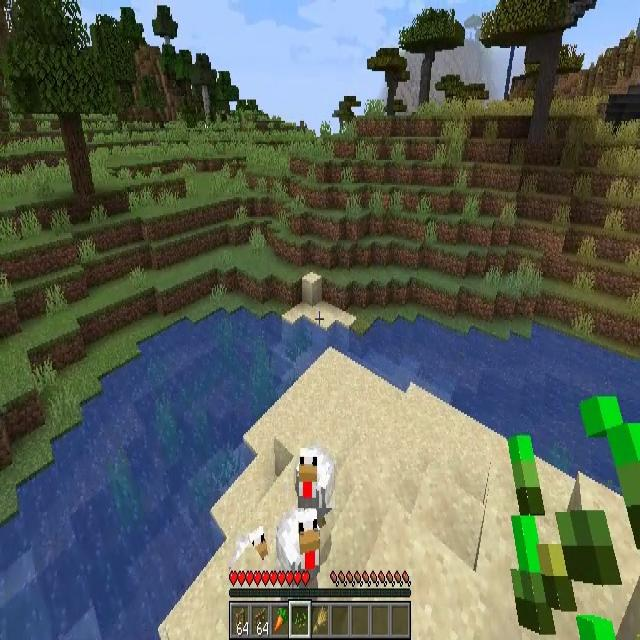duck: (278, 508, 321, 568), (295, 448, 335, 508), (228, 525, 268, 562)
